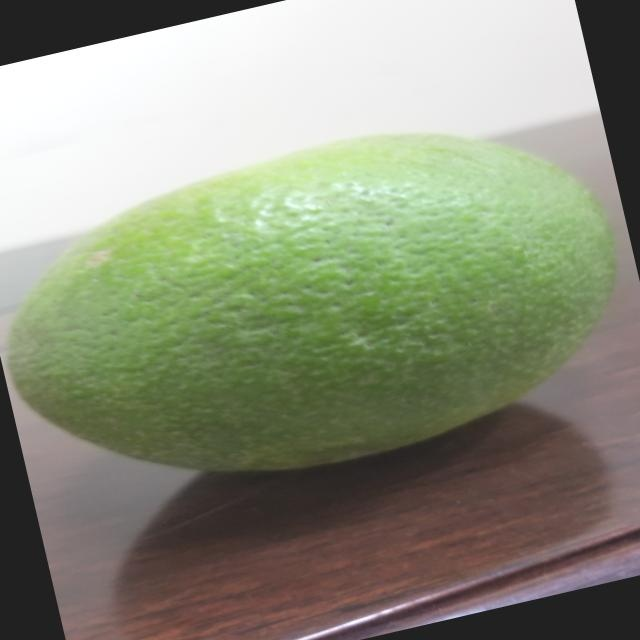agrume: (0, 85, 640, 529)
